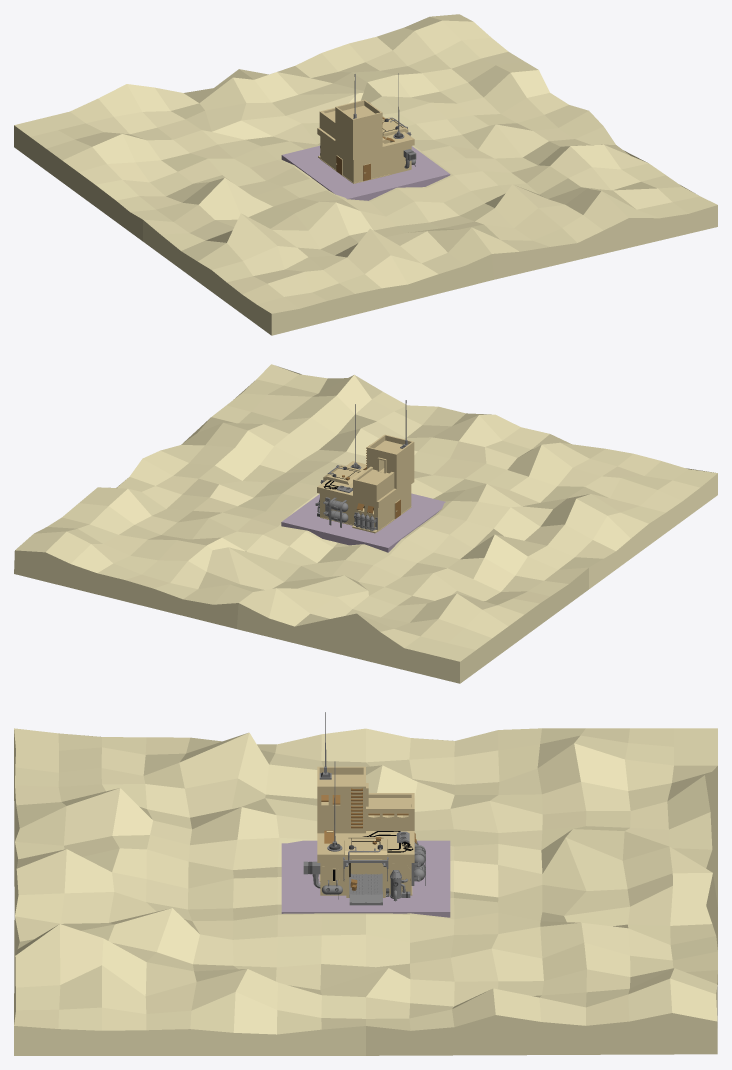
Rendered from military_base.glb.
3 views of the same model, one above another, from view 1: azimuth 30°, elevation 25°; view 2: azimuth 150°, elevation 25°; view 3: azimuth 270°, elevation 25° (orthographic). The views are drawn at different scales.
Visible parts, largest first — view 1: Plane; view 2: Plane; view 3: Plane.
Boxes of the visible parts, bbox=[...] form: Plane: bbox=[14, 14, 717, 335]; Plane: bbox=[14, 364, 717, 683]; Plane: bbox=[14, 712, 717, 1055].
Bounding box in the file's own units: 9356 × 2607 × 9356.
